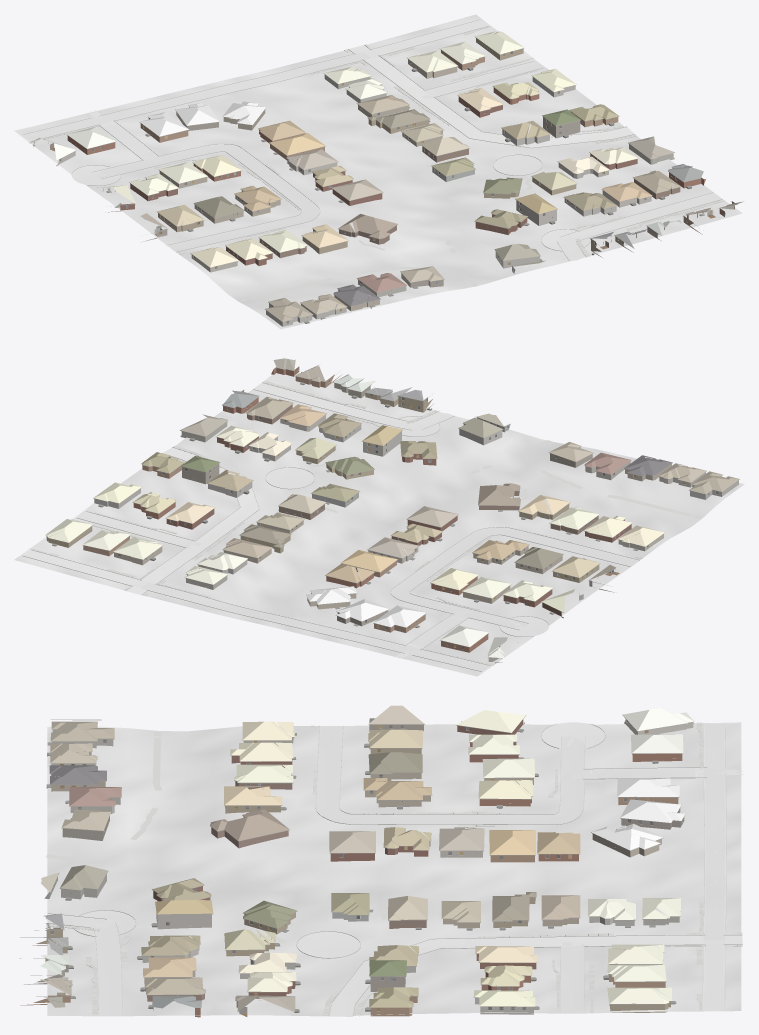
The picture shows the model from 3 angles, top to bottom: view 1: azimuth 30°, elevation 25°; view 2: azimuth 150°, elevation 25°; view 3: azimuth 270°, elevation 25°; orthographic projection. The views are drawn at different scales.
Visible parts, largest first — view 1: ground, roof, concrete, wall, asphalt, curb, detail, walk, wall_stone, wall_stucco; view 2: ground, roof, concrete, wall, detail, asphalt, curb, walk, wall_stone, wall_stucco, glass; view 3: ground, roof, concrete, wall, asphalt, detail, walk, curb, wall_stone, wall_stucco, mark_w, glass.
Part boxes in pixels (x1,y1,x2,y2): ground: (14, 14, 742, 329); roof: (30, 31, 743, 321); concrete: (72, 45, 721, 261); wall: (67, 38, 734, 311); asphalt: (22, 20, 487, 141); curb: (22, 19, 724, 260); detail: (33, 37, 733, 323); walk: (29, 26, 724, 301); wall_stone: (266, 77, 616, 326); wall_stucco: (56, 59, 674, 296); ground: (14, 372, 744, 676); roof: (46, 358, 739, 658); concrete: (77, 383, 639, 648); wall: (46, 366, 671, 652); detail: (46, 367, 739, 663); asphalt: (23, 550, 489, 671); curb: (22, 382, 641, 671); walk: (29, 381, 701, 665); wall_stone: (94, 418, 738, 574); wall_stucco: (114, 415, 663, 662); glass: (118, 368, 718, 649); ground: (47, 722, 741, 1016); roof: (20, 705, 694, 1012); concrete: (45, 722, 742, 1016); wall: (20, 719, 684, 1017); asphalt: (703, 723, 743, 1009); detail: (19, 715, 694, 1012); walk: (46, 722, 742, 1016); curb: (45, 723, 742, 1016); wall_stone: (51, 729, 634, 1014); wall_stucco: (44, 719, 693, 1007); mark_w: (573, 724, 736, 1009); glass: (48, 720, 682, 1009).
Size of the model in its own units: 264 by 13.4 by 263.
